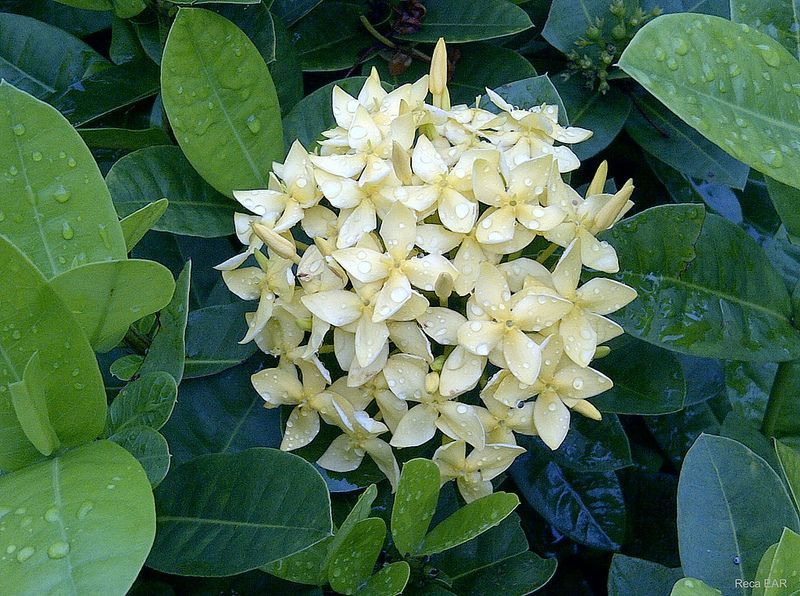ixora: (502, 340, 610, 450), (542, 243, 636, 362), (306, 260, 418, 352), (466, 265, 557, 375), (386, 350, 486, 450), (398, 135, 497, 229), (251, 365, 350, 448), (474, 160, 564, 239), (312, 116, 407, 175), (330, 413, 401, 489), (224, 256, 295, 327), (436, 439, 522, 497)
